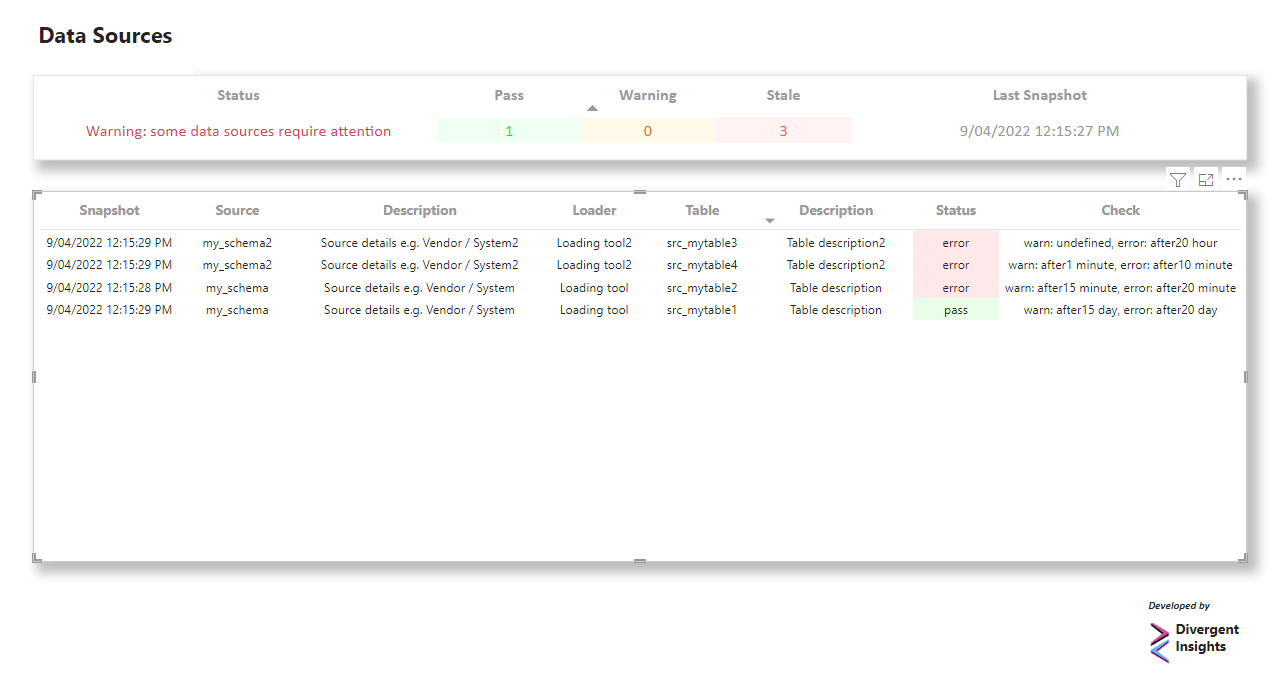

This screenshot's page, from the dashboard's own definition file:
{"tool":"powerbi","page":{"name":"Sources Overview","canvas":[1280,720],"ordinal":0},"visuals":[{"type":"tableEx","title":"sdfadsfad","fields":{"Values":["SOURCES_OVERVIEW.STATUS","Sum(SOURCES_OVERVIEW.Okay)","SOURCES_OVERVIEW.WARNING","SOURCES_OVERVIEW.STALE","SOURCES_OVERVIEW.PAYLOAD_TIMESTAMP_UTC"]},"box":[49.6,123.5,1180.8,82.7],"z":0},{"type":"textbox","box":[49.6,64.2,1180.8,59.3],"z":1000},{"type":"tableEx","fields":{"Values":["SOURCES_DETAILS.SNAPSHOTTED_AT","SOURCES_DETAILS.SOURCE_NAME","SOURCES_DETAILS.SOURCE_DESCRIPTION","SOURCES_DETAILS.LOADER","SOURCES_DETAILS.TABLE_NAME","SOURCES_DETAILS.TABLE_DESCRIPTION","SOURCES_DETAILS.STATUS","SOURCES_DETAILS.FRESHNESS_CHECK"]},"box":[49.6,236.4,1180.8,360.9],"z":2000},{"type":"actionButton","box":[0,0,100,40],"z":3000},{"type":"textbox","box":[49.6,644.9,363.8,44.7],"z":4000},{"type":"image","box":[49.6,667.3,52.5,52.5],"z":5000,"group":"g1"},{"type":"group","id":"g1","title":"Group 1","box":[49.6,666.3,123.5,53.5],"z":5000},{"type":"textbox","box":[86.6,666.3,86.6,53.5],"z":7000,"group":"g1"}]}

Visuals, with their boxes on the page's 1280x720 design canvas (x1, y1, x2, y2). These are canvas units, not pixel positions in the 1288x678 screenshot, which may show the page scaled, cropped or inside an application window:
"sdfadsfad" tableEx: (x1=50, y1=124, x2=1230, y2=206)
textbox: (x1=50, y1=64, x2=1230, y2=124)
tableEx - SOURCES_DETAILS.SNAPSHOTTED_AT x SOURCES_DETAILS.SOURCE_NAME: (x1=50, y1=236, x2=1230, y2=597)
actionButton: (x1=0, y1=0, x2=100, y2=40)
textbox: (x1=50, y1=645, x2=413, y2=690)
image: (x1=50, y1=667, x2=102, y2=720)
"Group 1" group: (x1=50, y1=666, x2=173, y2=720)
textbox: (x1=87, y1=666, x2=173, y2=720)
